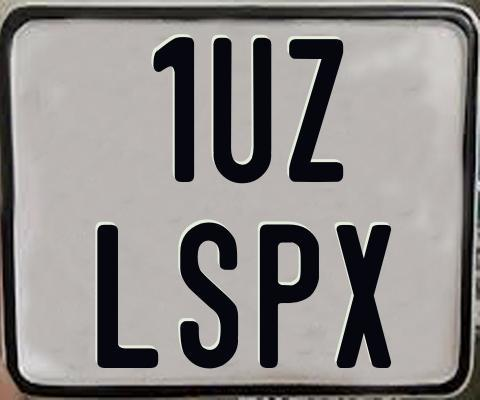1: (151, 35, 197, 181)
L: (95, 224, 162, 369)
P: (258, 223, 323, 371)
S: (179, 222, 242, 373)
U: (211, 38, 269, 185)
X: (333, 225, 388, 370)
Z: (287, 37, 341, 180)
